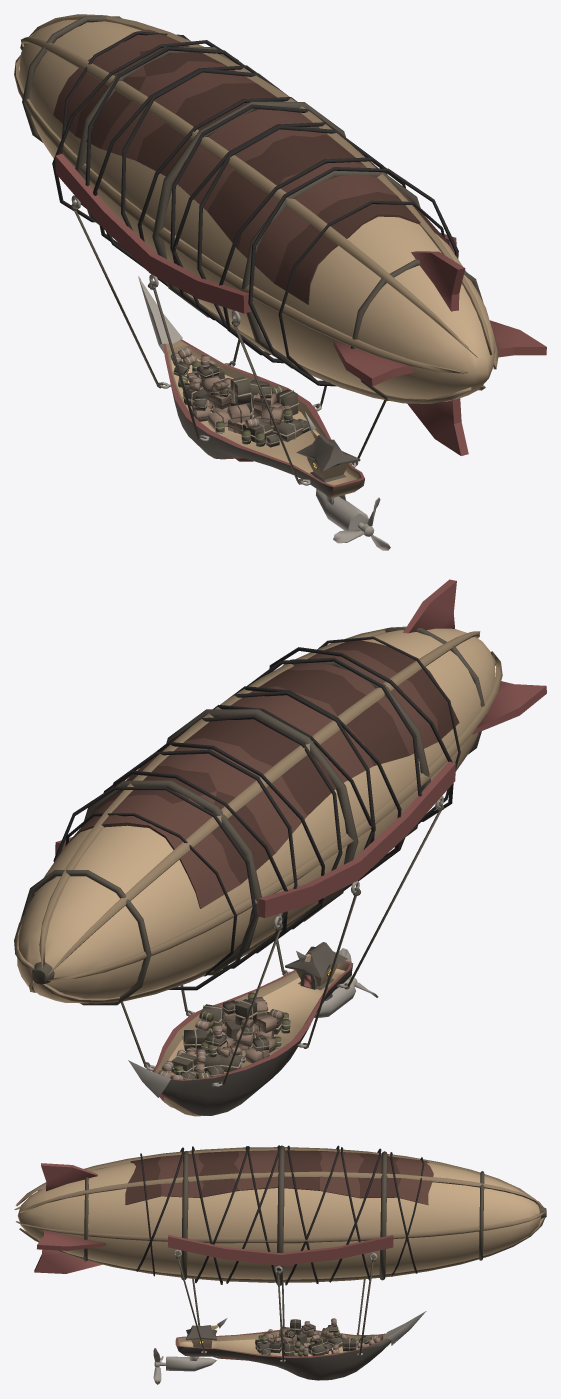
3 renders of one model, top to bottom at view 1: azimuth 30°, elevation 25°; view 2: azimuth 150°, elevation 25°; view 3: azimuth 270°, elevation 25°, orthographic. The views are drawn at different scales.
Visible parts, largest first — view 1: polySurface14093; view 2: polySurface14093; view 3: polySurface14093.
Part boxes in pixels (x1,y1,x2,y2): polySurface14093: (14, 14, 546, 550); polySurface14093: (14, 579, 546, 1116); polySurface14093: (14, 1145, 546, 1384).
Bounding box in the file's own units: 5134 × 8603 × 18433.
